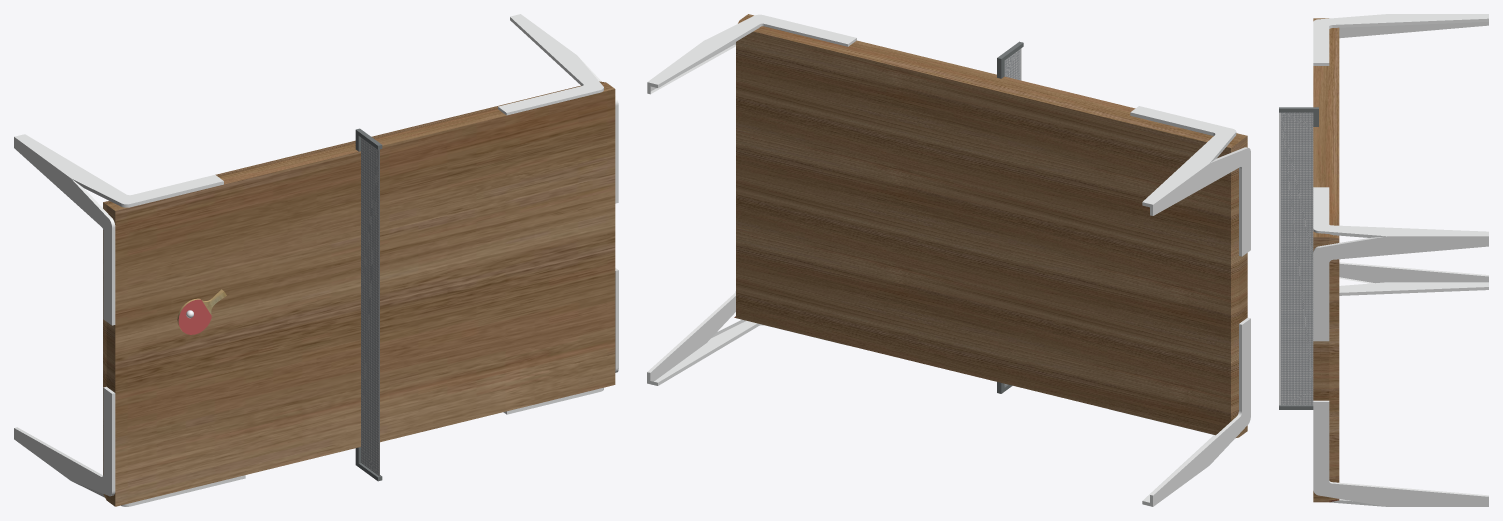
Rendered from mesa-bretda-tenis-de-mesa-ambar.glb.
3 renders of one model, left to right at view 1: azimuth 30°, elevation 25°; view 2: azimuth 150°, elevation 25°; view 3: azimuth 270°, elevation 25°, orthographic. The views are drawn at different scales.
Parts seen in each view (by area): view 1: ID149, ID530, ID99, ID36, ID448, ID587; view 2: ID149, ID99, ID36, ID448, ID385, ID385_1; view 3: ID530, ID149, ID448, ID385, ID99, ID36_1, ID36, ID520, ID4_1, ID365_1, ID492.
Boxes of the visible parts, <box> form: ID149: <box>103,81,615,506</box>; ID530: <box>361,137,379,475</box>; ID99: <box>14,134,223,325</box>; ID36: <box>14,388,130,506</box>; ID448: <box>498,14,618,112</box>; ID587: <box>178,299,211,334</box>; ID149: <box>736,14,1247,438</box>; ID99: <box>1130,106,1250,256</box>; ID36: <box>1111,318,1250,506</box>; ID448: <box>647,14,856,94</box>; ID385: <box>650,291,847,385</box>; ID385_1: <box>654,319,756,382</box>; ID530: <box>1280,112,1313,405</box>; ID149: <box>1313,18,1339,502</box>; ID448: <box>1313,187,1488,341</box>; ID385: <box>1313,402,1488,506</box>; ID99: <box>1313,14,1488,62</box>; ID36_1: <box>1339,263,1488,283</box>; ID36: <box>1339,262,1488,292</box>; ID520: <box>1279,112,1280,405</box>; ID4_1: <box>1339,287,1488,295</box>; ID365_1: <box>1332,482,1488,496</box>; ID492: <box>1279,107,1318,126</box>.
Size of the model in its own units: 91.77 by 58.05 by 36.73.
11 materials, 7 textured.
